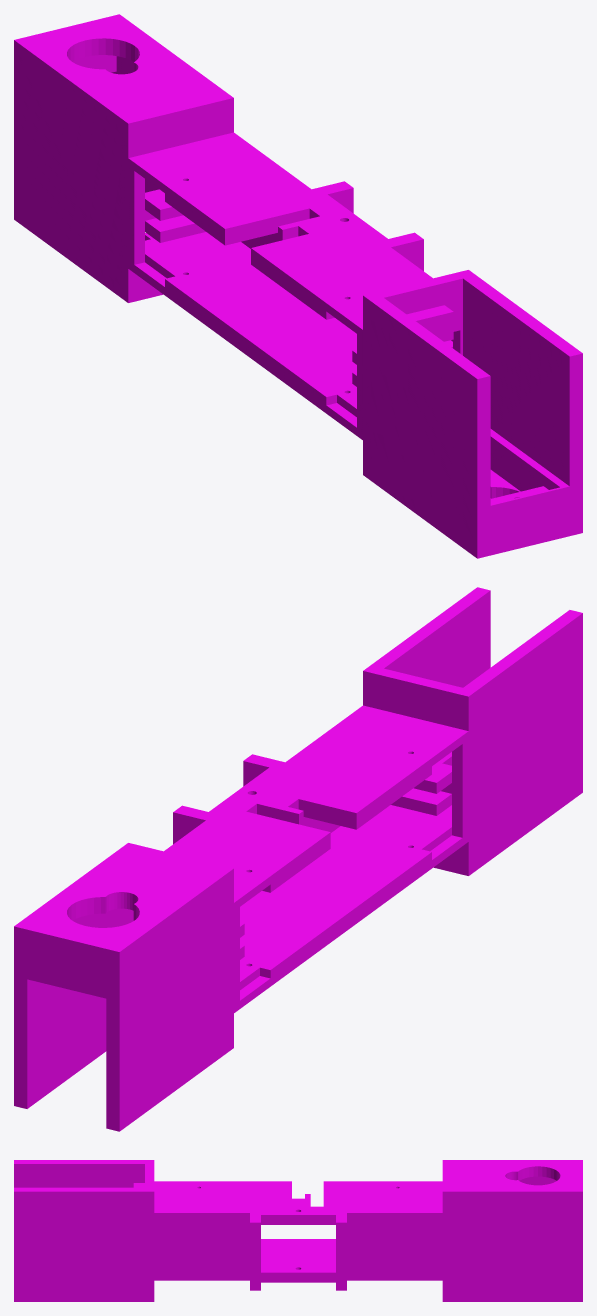
Rendered from bracket.glb.
3 views of the same model, one above another, from view 1: azimuth 30°, elevation 25°; view 2: azimuth 150°, elevation 25°; view 3: azimuth 270°, elevation 25° (orthographic). The views are drawn at different scales.
Visible parts, largest first — view 1: bracket; view 2: bracket; view 3: bracket.
Boxes of the visible parts, bbox=[...] form: bracket: bbox=[14, 14, 582, 558]; bracket: bbox=[14, 587, 582, 1131]; bracket: bbox=[14, 1160, 582, 1301].
Bounding box in the file's own units: 0.2625 × 0.325 × 1.52.
